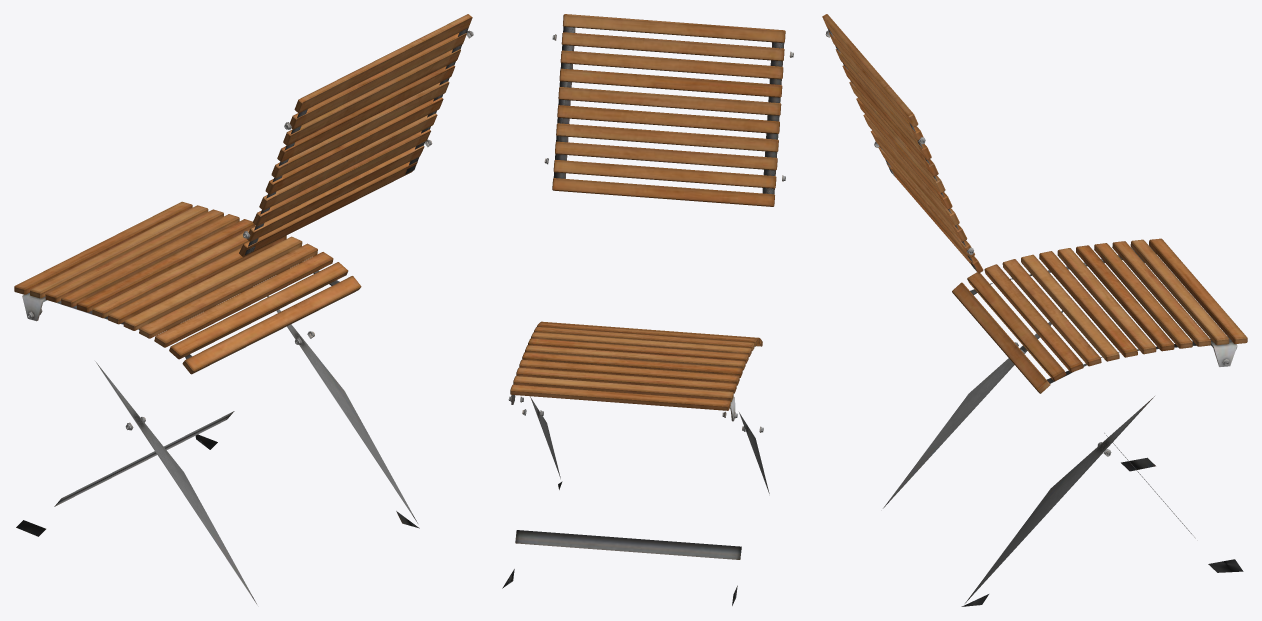
The model's file is terrace_chair.glb.
3 views of the same model, side by side, from view 1: azimuth 30°, elevation 25°; view 2: azimuth 150°, elevation 25°; view 3: azimuth 270°, elevation 25° (orthographic). The views are drawn at different scales.
Parts seen in each view (by area): view 1: outdoor_table_chair_set_01_chair_01; view 2: outdoor_table_chair_set_01_chair_01; view 3: outdoor_table_chair_set_01_chair_01.
Part boxes in pixels (x1=…): outdoor_table_chair_set_01_chair_01: x1=14, y1=14, x2=473, y2=603; outdoor_table_chair_set_01_chair_01: x1=502, y1=14, x2=793, y2=605; outdoor_table_chair_set_01_chair_01: x1=822, y1=14, x2=1247, y2=606.
Bounding box in the file's own units: 0.5627 × 0.8505 × 0.6494.
1 material, 1 textured.
